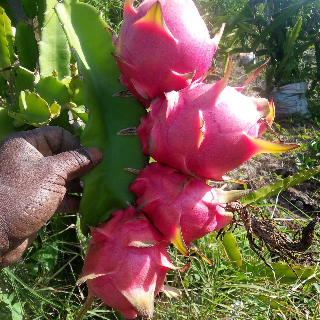thanh_long: (138, 85, 281, 180), (85, 209, 184, 317), (129, 156, 237, 246), (118, 1, 215, 90)
